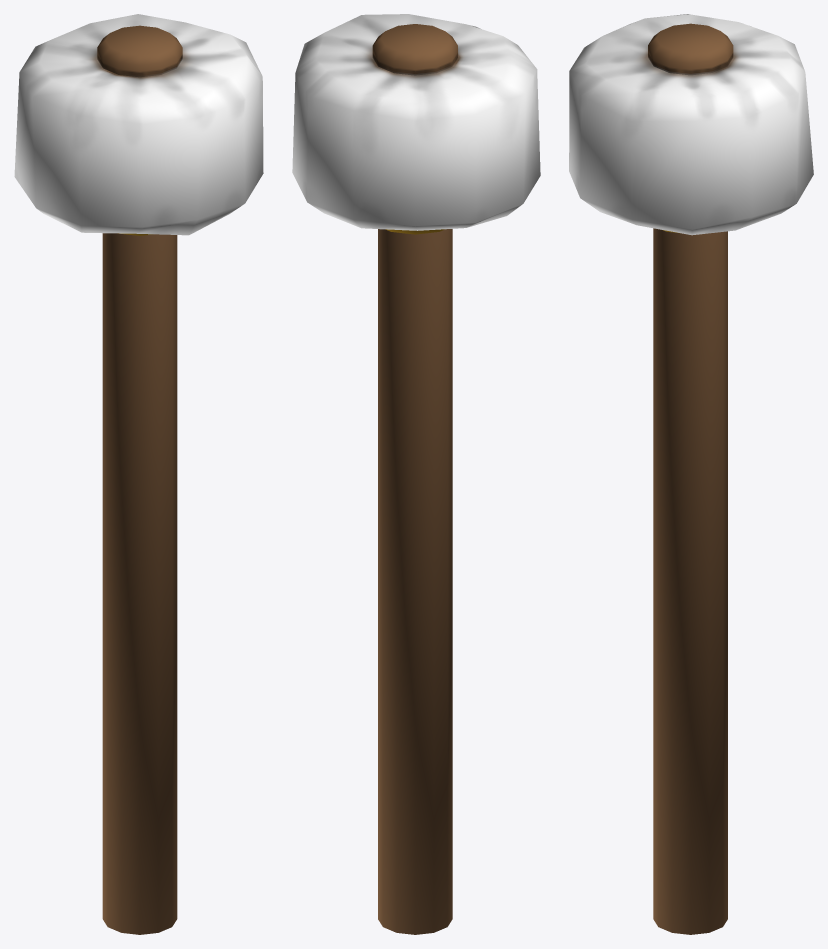
Rendered from OBJET_GongHammer.fbx.
3 renders of one model, left to right at view 1: azimuth 30°, elevation 25°; view 2: azimuth 150°, elevation 25°; view 3: azimuth 270°, elevation 25°, orthographic.
Parts seen in each view (by area): view 1: OBJECT_GongHammer; view 2: OBJECT_GongHammer; view 3: OBJECT_GongHammer.
Boxes of the visible parts, left/top/right/bottom form: OBJECT_GongHammer: left=14, top=14, right=263, bottom=934; OBJECT_GongHammer: left=292, top=14, right=540, bottom=934; OBJECT_GongHammer: left=569, top=14, right=813, bottom=934.
Size of the model in its own units: 46.69 by 181 by 45.5.
